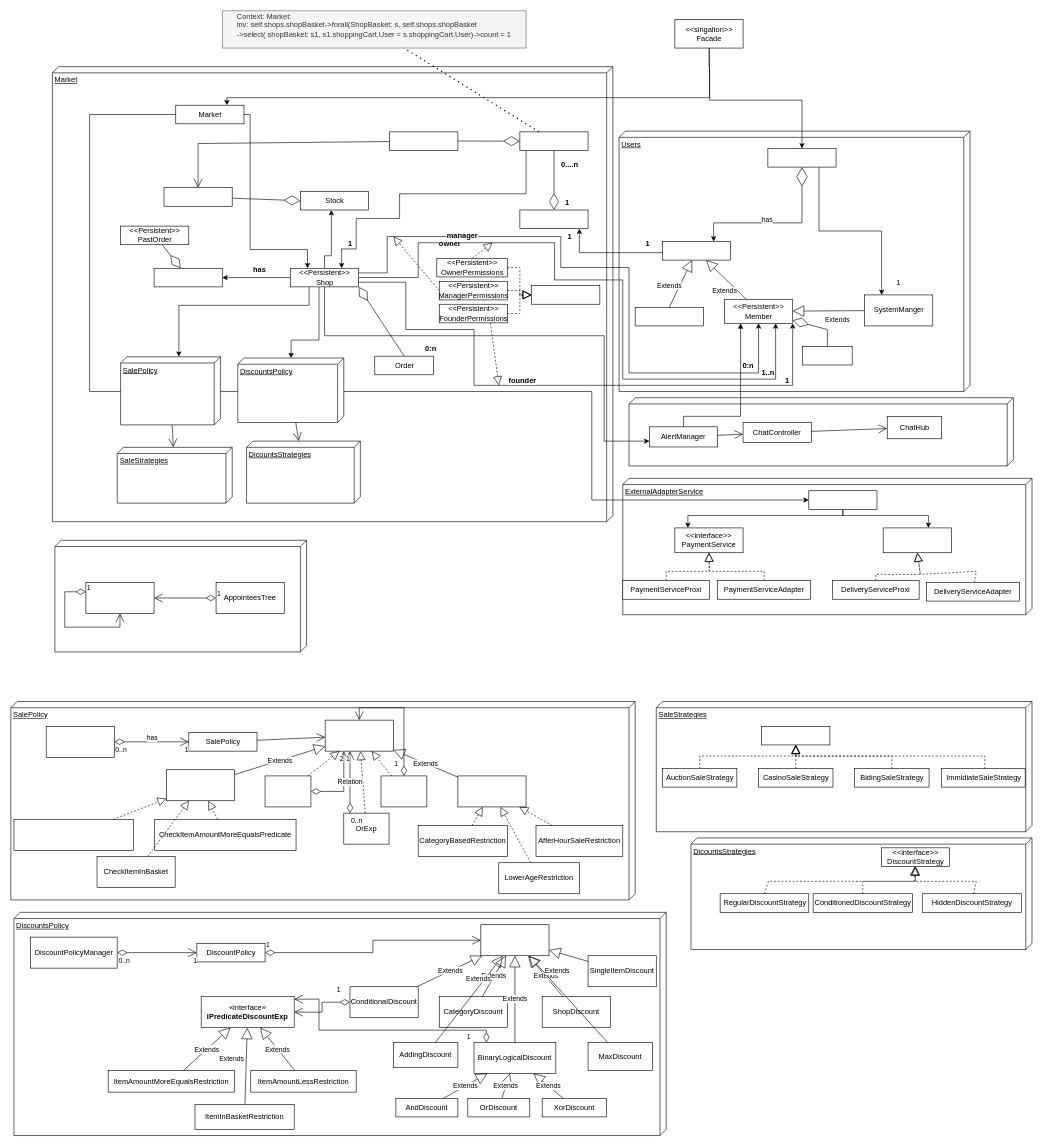
This 1043x1146 diagram has some shape labels left out. The shapes that lost their labels are listed below. From the top down, each one's box as (x1, y1, x2, y2) in pixels, then its label:
(389, 131, 458, 150): <<Persistent>> ShopBasketItem
(519, 131, 588, 150): <<Persistent>> ShopBasket
(767, 148, 836, 167): UserManager
(163, 187, 232, 206): <<Persistent>> Item
(519, 209, 588, 229): ShoppingCart
(662, 241, 731, 260): User
(153, 268, 222, 287): <<Persistent>> OrdersHistory
(531, 285, 600, 304): Permissions
(635, 307, 703, 326): Guest
(802, 346, 852, 365): Alert
(628, 397, 1013, 466): Hubs
(808, 490, 877, 509): ExternalSerivce
(883, 527, 951, 553): <<interface>> DeliveryService
(85, 582, 154, 613): AppointeeNode
(54, 540, 307, 652): AppointeesTrees
(46, 726, 114, 757): SalePolicyManger
(325, 720, 393, 751): «interface» ISalePolicy
(761, 726, 830, 745): <<interface>> SaleStrategy
(166, 769, 235, 801): «interface» IPredicateExp
(264, 775, 311, 807): ImpliesExp
(380, 775, 427, 807): AndExp
(457, 775, 526, 807): «interface» IRestrictionExp
(13, 819, 134, 850): CheckItemAmountLessPredicate
(480, 924, 549, 956): «interface» IDiscountExp
